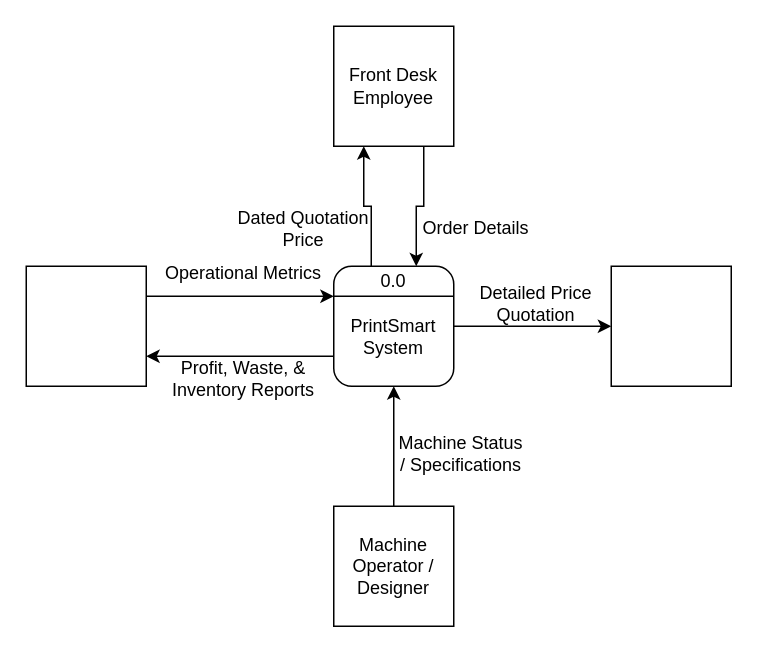
Image size: 758x653. Some labels were removed from this diagram. The box of each missing label's shape, as (x1, y1, x2, y2) in pixels:
Customer: (610, 265, 731, 386)
Manager / Owner: (25, 265, 146, 386)
